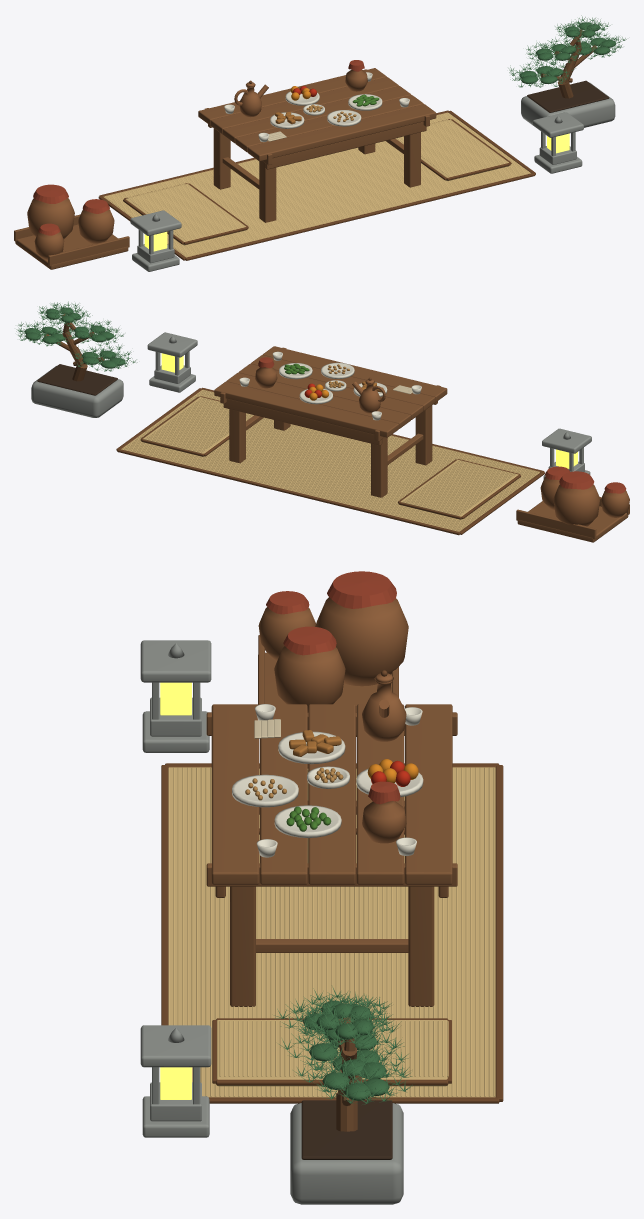
The model's file is courtyard_banquet_v1.fbx.
The picture shows the model from 3 angles, top to bottom: view 1: azimuth 30°, elevation 25°; view 2: azimuth 150°, elevation 25°; view 3: azimuth 270°, elevation 25°; orthographic projection. The views are drawn at different scales.
Parts seen in each view (by area): view 1: Large Banquet Floor Mat Mesh, Low Table Mesh, Pine In Stone Planter Mesh, Left Kneeling Mat Mesh, Right Kneeling Mat Mesh, Wine Jar Storage Tray Mesh, Low Courtyard Lantern -2.45 Mesh, Low Courtyard Lantern 2.45 Mesh, Large Floor Wine Jar Mesh, Medium Floor Wine Jar Mesh, Small Floor Wine Jar Mesh, Wine Ewer Mesh (+2 smaller); view 2: Large Banquet Floor Mat Mesh, Low Table Mesh, Pine In Stone Planter Mesh, Left Kneeling Mat Mesh, Right Kneeling Mat Mesh, Low Courtyard Lantern 2.45 Mesh, Large Floor Wine Jar Mesh, Wine Jar Storage Tray Mesh, Low Courtyard Lantern -2.45 Mesh, Small Floor Wine Jar Mesh, Wine Ewer Mesh, Medium Floor Wine Jar Mesh (+2 smaller); view 3: Large Banquet Floor Mat Mesh, Low Table Mesh, Pine In Stone Planter Mesh, Right Kneeling Mat Mesh, Large Floor Wine Jar Mesh, Low Courtyard Lantern 2.45 Mesh, Low Courtyard Lantern -2.45 Mesh, Medium Floor Wine Jar Mesh, Small Floor Wine Jar Mesh, Table Wine Jar Mesh, Wine Ewer Mesh, Wine Jar Storage Tray Mesh (+4 smaller).
Part boxes in pixels (bbox=[...]): Large Banquet Floor Mat Mesh: bbox=[98, 110, 535, 260]; Low Table Mesh: bbox=[198, 68, 436, 222]; Pine In Stone Planter Mesh: bbox=[508, 15, 626, 127]; Left Kneeling Mat Mesh: bbox=[123, 183, 248, 245]; Right Kneeling Mat Mesh: bbox=[395, 119, 511, 180]; Wine Jar Storage Tray Mesh: bbox=[14, 214, 129, 269]; Low Courtyard Lantern -2.45 Mesh: bbox=[130, 210, 181, 271]; Low Courtyard Lantern 2.45 Mesh: bbox=[532, 112, 583, 173]; Large Floor Wine Jar Mesh: bbox=[27, 184, 74, 239]; Medium Floor Wine Jar Mesh: bbox=[78, 199, 114, 243]; Small Floor Wine Jar Mesh: bbox=[34, 223, 64, 259]; Wine Ewer Mesh: bbox=[234, 80, 268, 117]; Large Banquet Floor Mat Mesh: bbox=[116, 387, 544, 535]; Low Table Mesh: bbox=[214, 346, 447, 497]; Pine In Stone Planter Mesh: bbox=[16, 301, 137, 417]; Left Kneeling Mat Mesh: bbox=[398, 459, 520, 519]; Right Kneeling Mat Mesh: bbox=[140, 396, 253, 456]; Low Courtyard Lantern 2.45 Mesh: bbox=[147, 332, 197, 392]; Large Floor Wine Jar Mesh: bbox=[553, 471, 600, 526]; Wine Jar Storage Tray Mesh: bbox=[516, 497, 629, 542]; Low Courtyard Lantern -2.45 Mesh: bbox=[542, 428, 591, 479]; Small Floor Wine Jar Mesh: bbox=[601, 482, 629, 517]; Wine Ewer Mesh: bbox=[352, 377, 385, 413]; Medium Floor Wine Jar Mesh: bbox=[540, 466, 569, 509]; Large Banquet Floor Mat Mesh: bbox=[161, 763, 503, 1103]; Low Table Mesh: bbox=[206, 704, 457, 1006]; Pine In Stone Planter Mesh: bbox=[274, 986, 412, 1204]; Right Kneeling Mat Mesh: bbox=[212, 1018, 451, 1086]; Large Floor Wine Jar Mesh: bbox=[315, 571, 408, 686]; Low Courtyard Lantern 2.45 Mesh: bbox=[140, 1025, 211, 1137]; Low Courtyard Lantern -2.45 Mesh: bbox=[140, 640, 211, 752]; Medium Floor Wine Jar Mesh: bbox=[274, 626, 345, 711]; Small Floor Wine Jar Mesh: bbox=[258, 591, 315, 660]; Table Wine Jar Mesh: bbox=[362, 781, 406, 843]; Wine Ewer Mesh: bbox=[362, 670, 406, 741]; Wine Jar Storage Tray Mesh: bbox=[258, 635, 398, 736].
Size of the model in its own units: 741 by 128 by 195.
